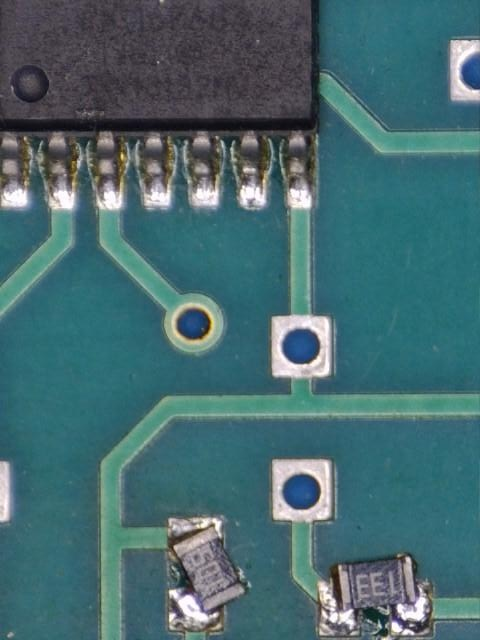pcb_defect: (317, 552, 435, 638), (167, 516, 248, 631)
